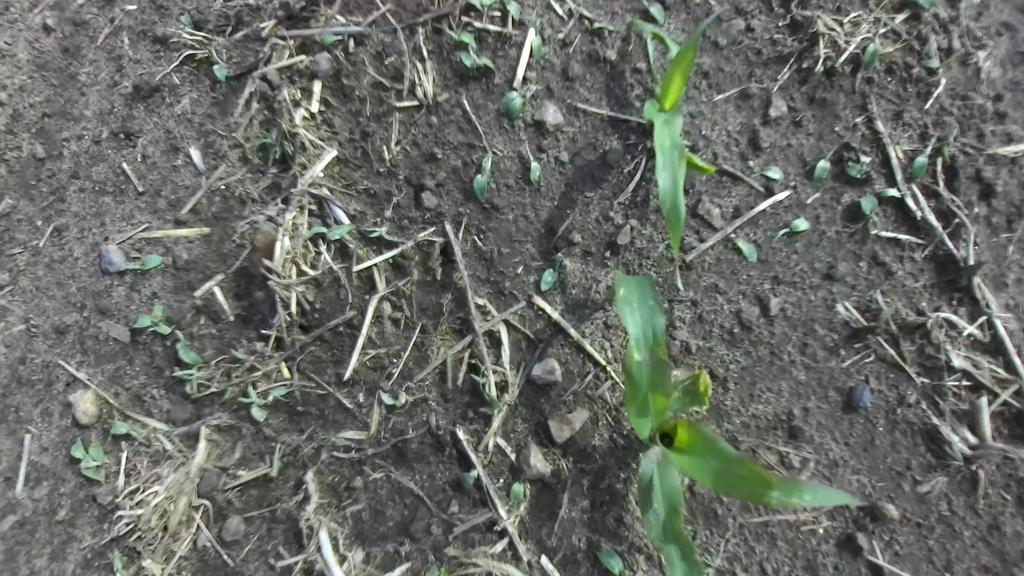BroWeed: (333, 390, 400, 456), (531, 248, 574, 297), (494, 74, 544, 116), (858, 13, 892, 74), (164, 328, 204, 373), (907, 129, 939, 184), (588, 535, 630, 576), (126, 300, 170, 337), (518, 138, 547, 193), (236, 382, 272, 426), (766, 213, 812, 247), (728, 227, 765, 268), (460, 43, 502, 79), (502, 81, 537, 123), (236, 384, 294, 409), (118, 249, 172, 275), (810, 139, 840, 185), (362, 217, 409, 244), (107, 418, 153, 445), (470, 150, 493, 203), (79, 430, 109, 468), (858, 192, 881, 237), (744, 158, 787, 182), (303, 223, 357, 242), (940, 435, 973, 466), (65, 434, 93, 468), (449, 45, 482, 73), (613, 215, 640, 249), (845, 151, 874, 181), (589, 38, 620, 66), (264, 448, 289, 480), (530, 18, 545, 63), (252, 125, 281, 148), (211, 46, 229, 83), (580, 17, 617, 35), (316, 27, 344, 49), (852, 528, 873, 557), (446, 30, 478, 49), (217, 381, 245, 402), (111, 546, 128, 576), (118, 243, 144, 262), (919, 54, 945, 73), (508, 474, 525, 503), (418, 550, 436, 576), (457, 467, 477, 490), (80, 460, 104, 479), (177, 11, 197, 33), (376, 389, 399, 408), (155, 260, 178, 277), (146, 321, 172, 335), (280, 136, 297, 157), (266, 143, 280, 167), (938, 143, 951, 167), (879, 186, 903, 198), (424, 560, 441, 576), (467, 0, 483, 12), (529, 6, 537, 27), (335, 437, 352, 446), (127, 311, 137, 326), (438, 562, 447, 576), (330, 435, 340, 443)
Maize: (490, 255, 870, 576)
